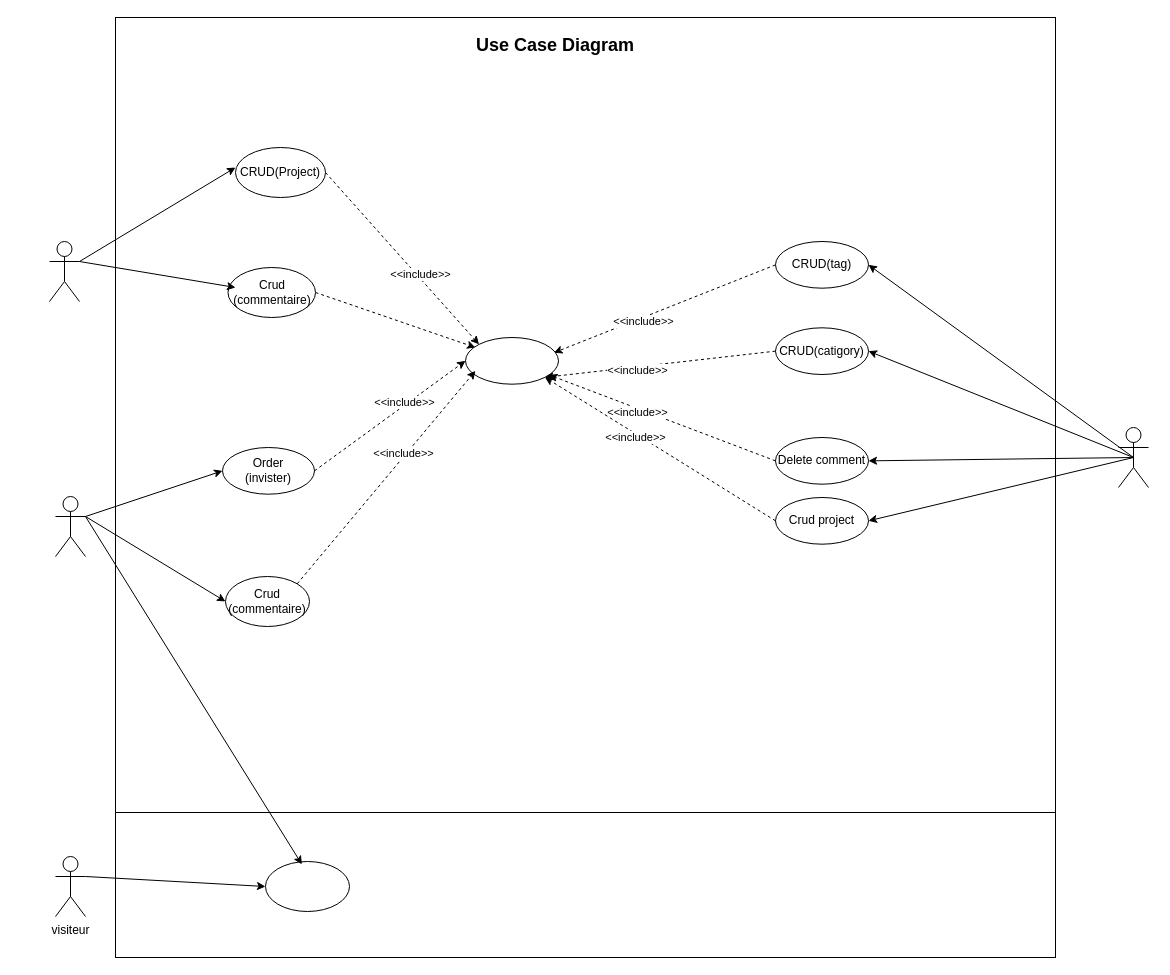
This 1170x975 diagram has some shape labels left out. Here are the shapes that lost their labels. From the top down, the centre of each, then its label:
At [64,271]: "Porteur de project".
At [511,360]: "Authification".
At [1133,457]: "ADMIN".
At [70,526]: "user".
At [307,886]: "visiter".
